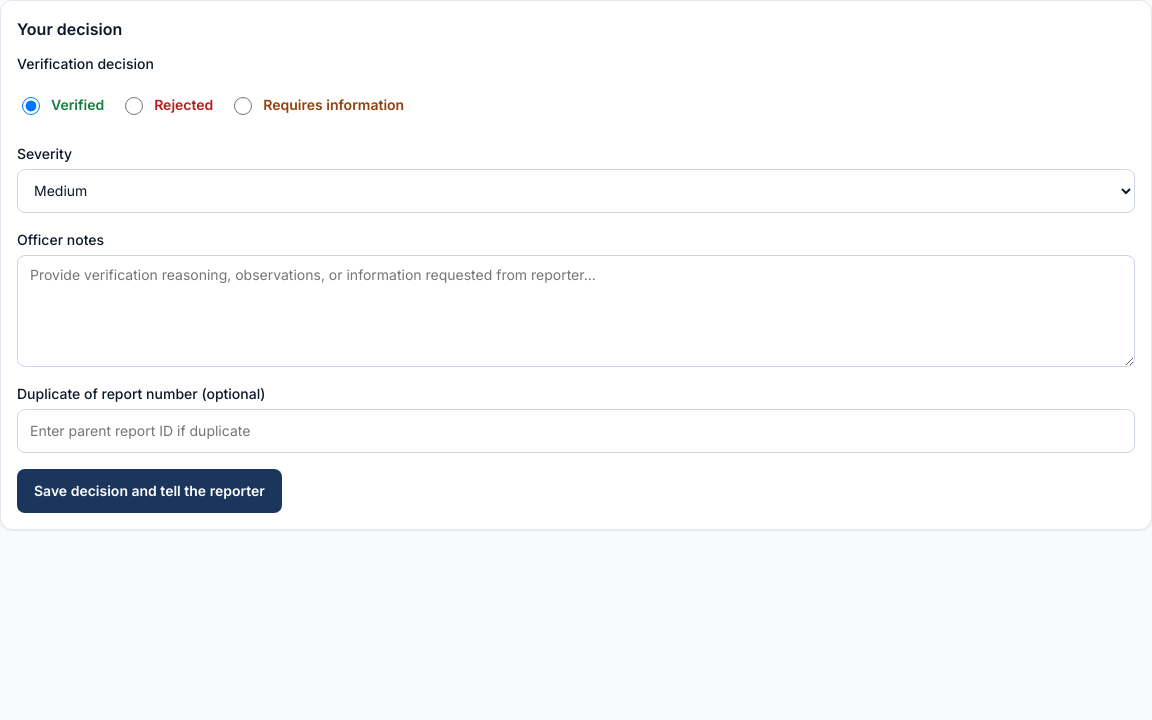
Test: DecisionForm (step 6) › should require notes before Rejected
The width and height of the screenshot is (1152, 720).
Click the radio button labelled "Rejected": (134, 106) [125,98,143,116]
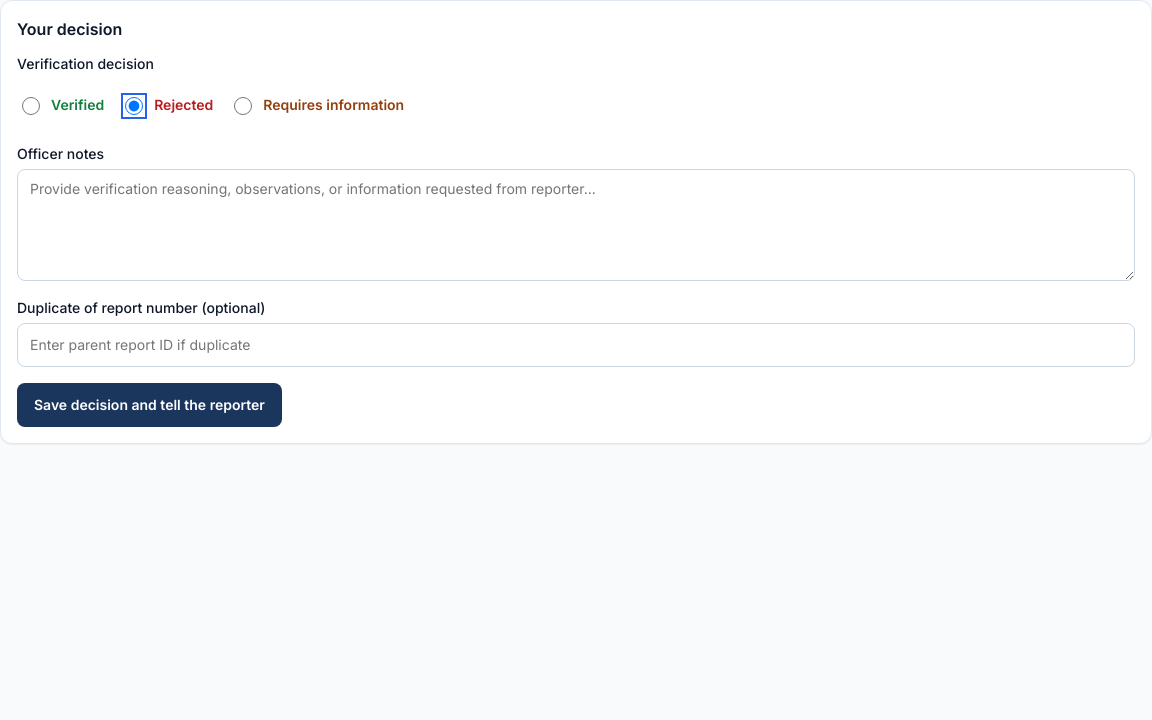
Check: the label labelled "Severity" is gone
Click the button "Save decision and tell the reporter": (149, 405) [17,383,282,427]
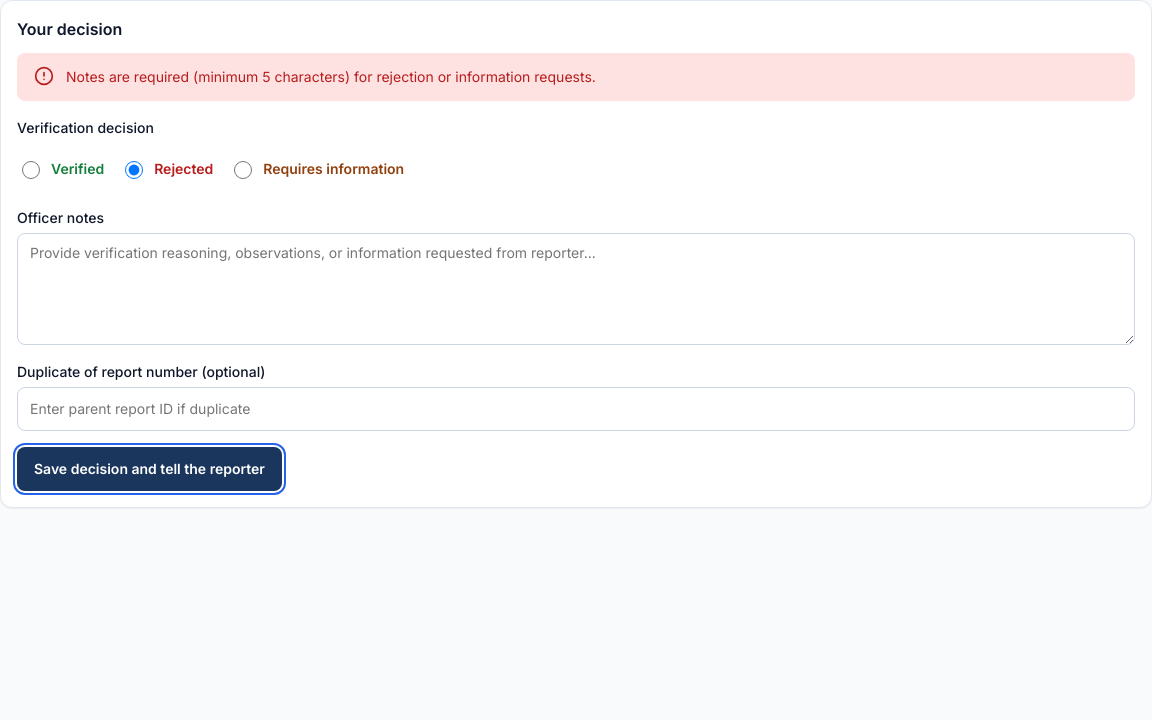
Check: the message shows "Notes are required", box [66,68,596,85]
